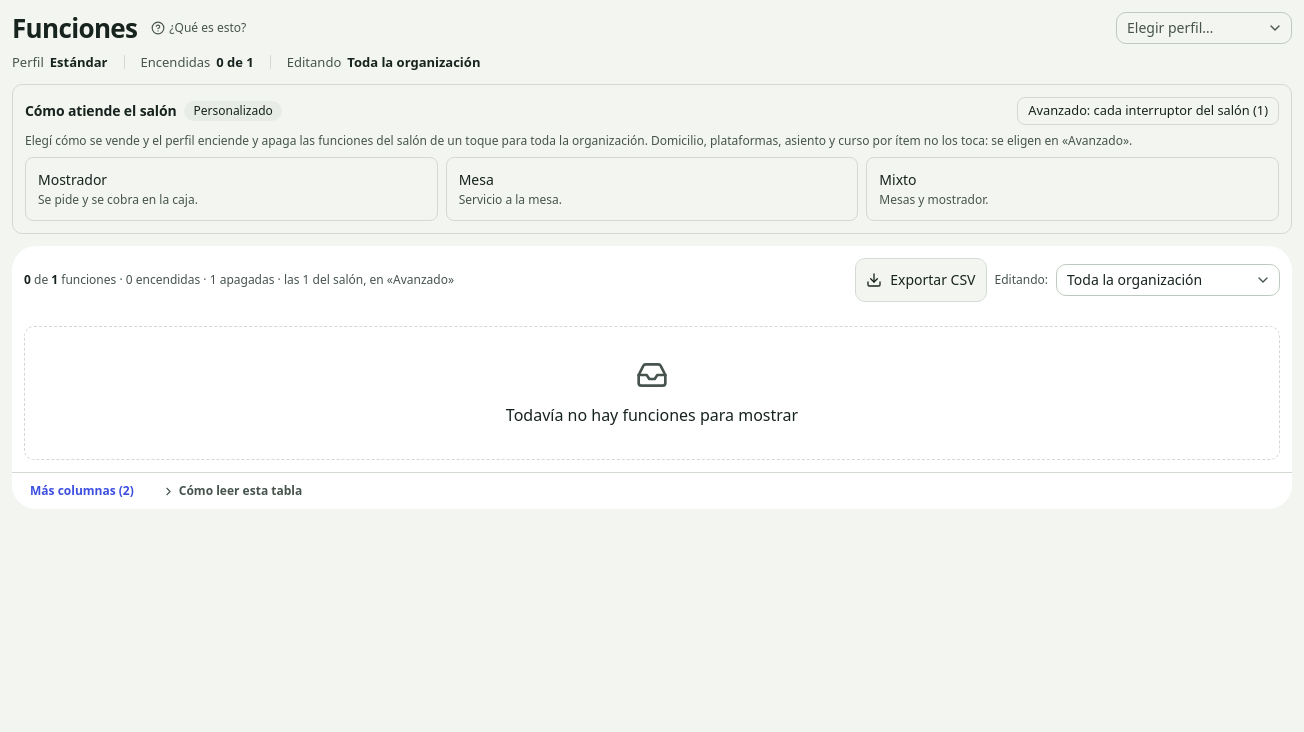
it: FeaturesPage › muestra el mensaje de FEATURE_DEPENDENCY que manda el servidor al prender una función sin su dependencia
Click the button "Avanzado: cada interruptor del salón (1)" at (1148, 111), box [1017, 97, 1279, 125]
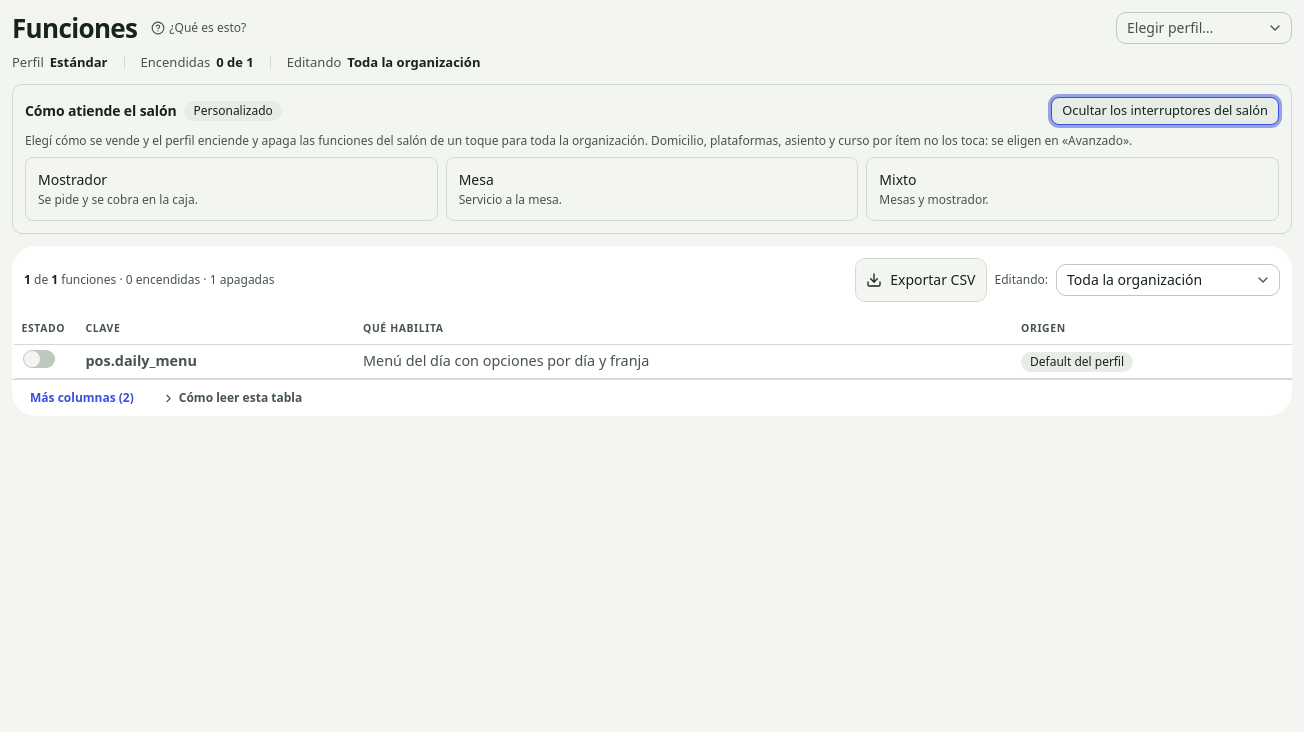
Click the switch named "encender pos.daily_menu" at (39, 359), box [23, 350, 55, 368]
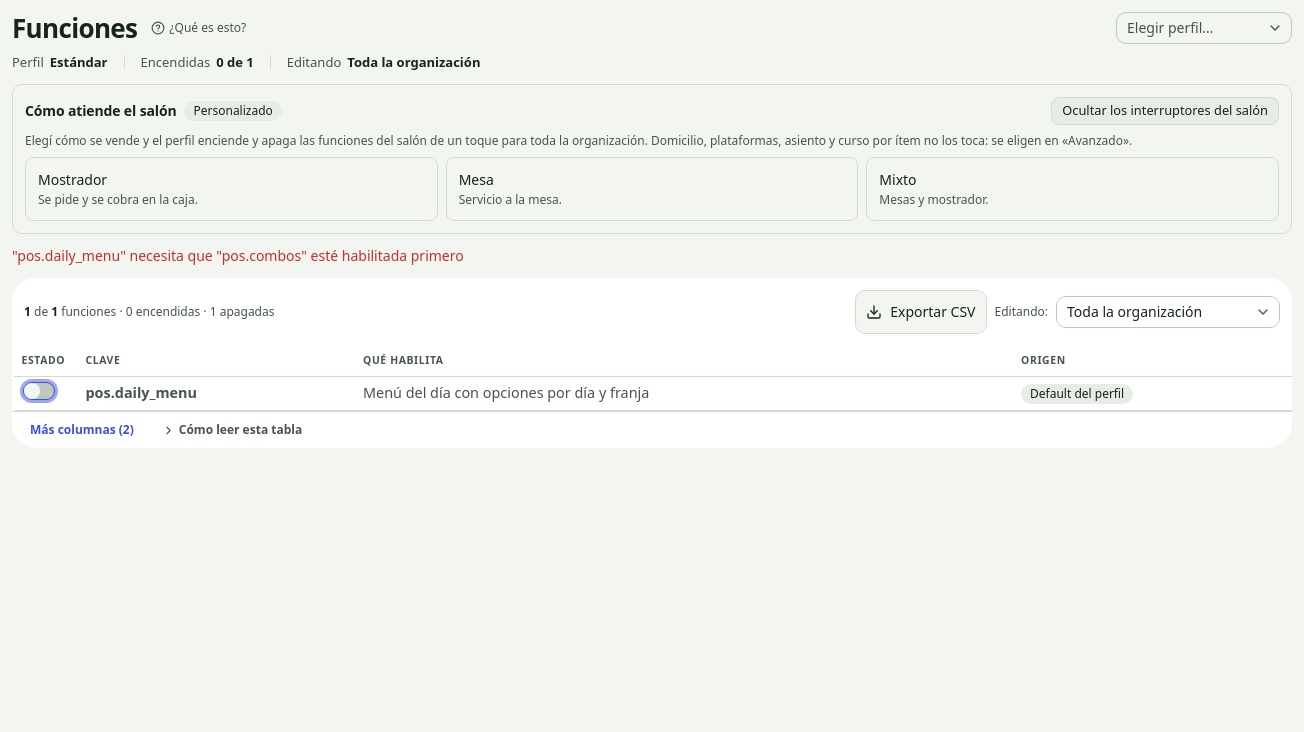
Expected: the text "\"pos.daily_menu\" necesita que \"pos.combos\" esté habilitada primero" is shown, [12, 246, 464, 265]
